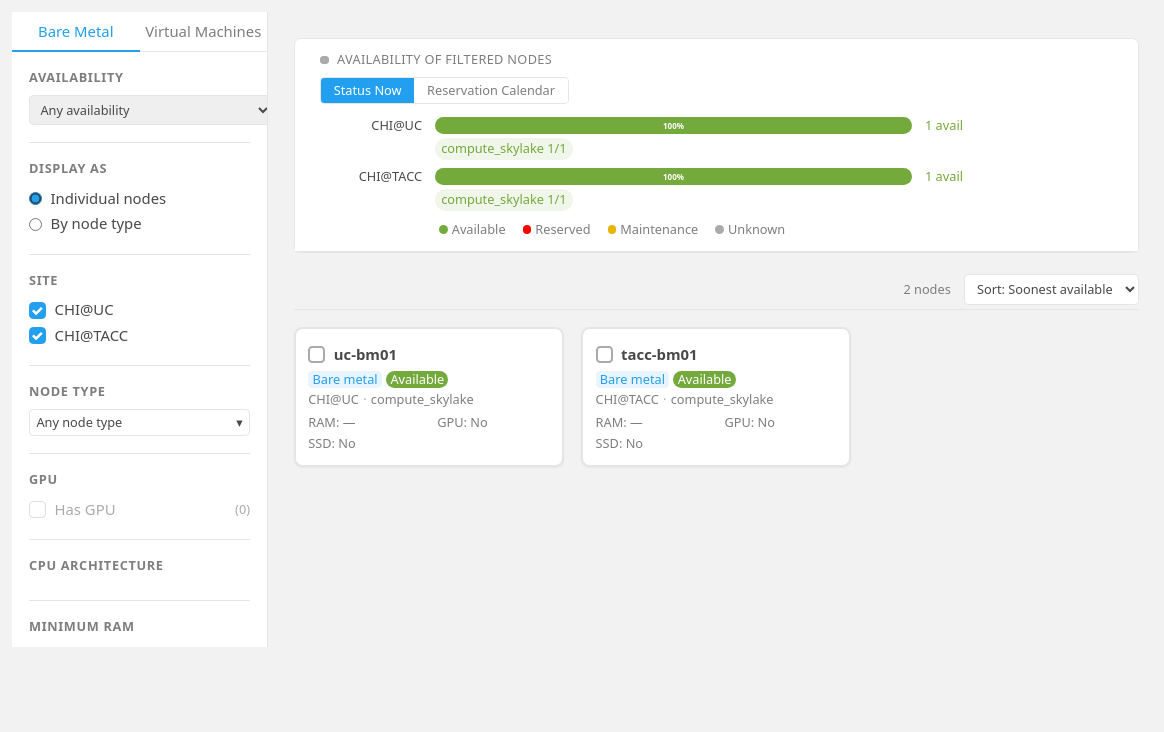
Test case: DiscoveryPage › shows nodes that free up within 7 days
This screenshot has width=1164, height=732.
Expected: the button with aria-label "uc-bm01 at CHI@UC" is shown, [294,327,564,467]
Select "Available starting within 7 days" in the dropdown showing "Any availability" at (150, 110), box [29,95,272,125]
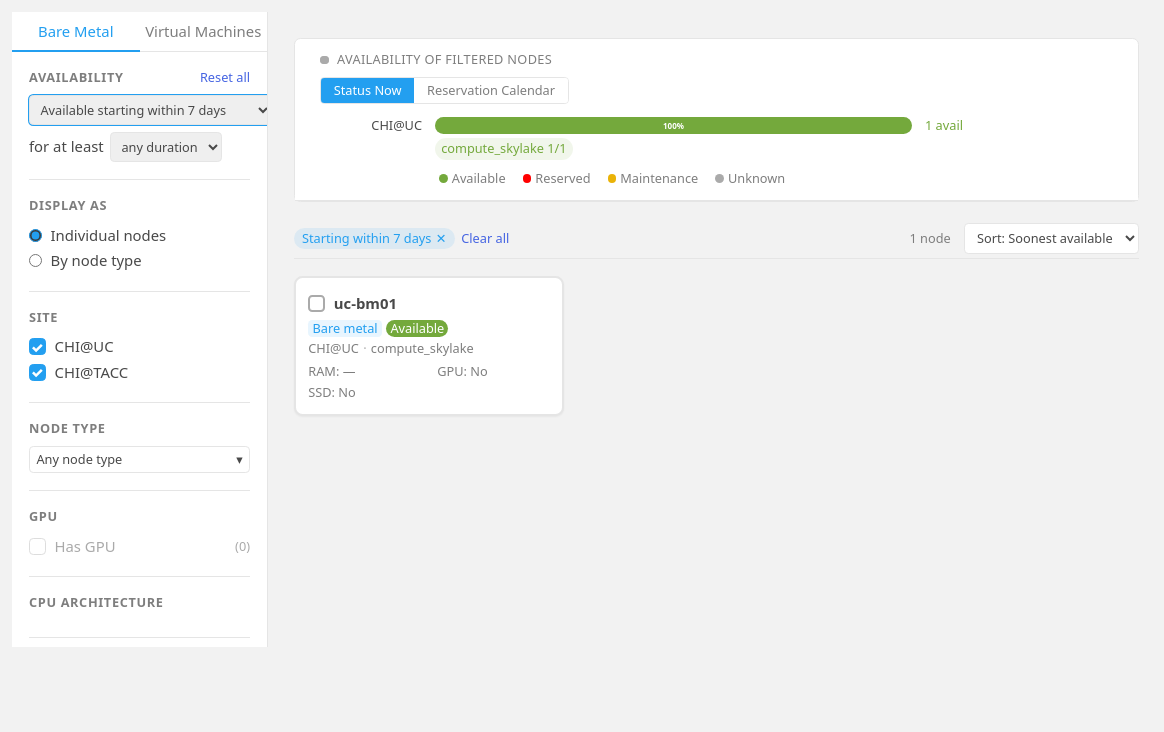
Expected: the button with aria-label "uc-bm01 at CHI@UC" is shown, [294,276,564,416]
Now the button "tacc-bm01 at CHI@TACC" is gone
